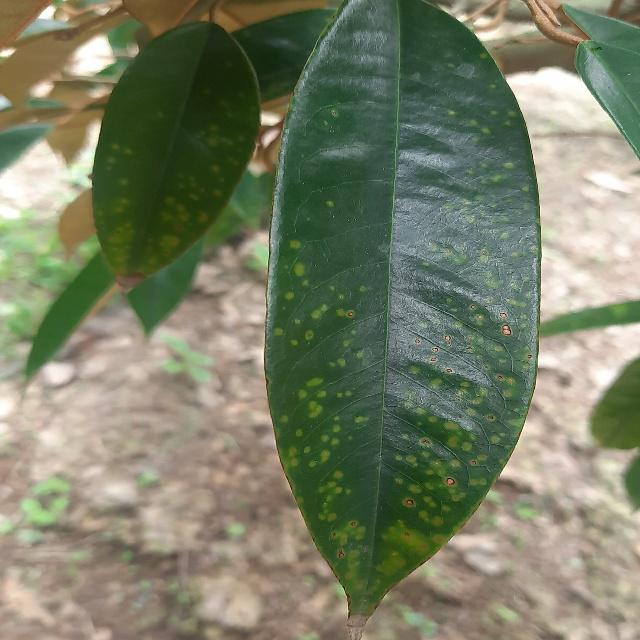Leaf Spot: (263, 0, 548, 639), (79, 11, 271, 315)
